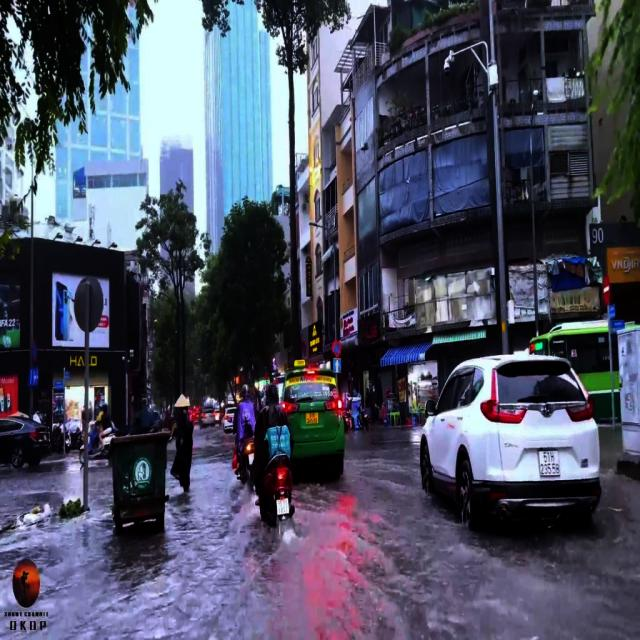cam_do_xe: (332, 340, 341, 357)
duong_mot_chieu: (333, 359, 341, 373)
